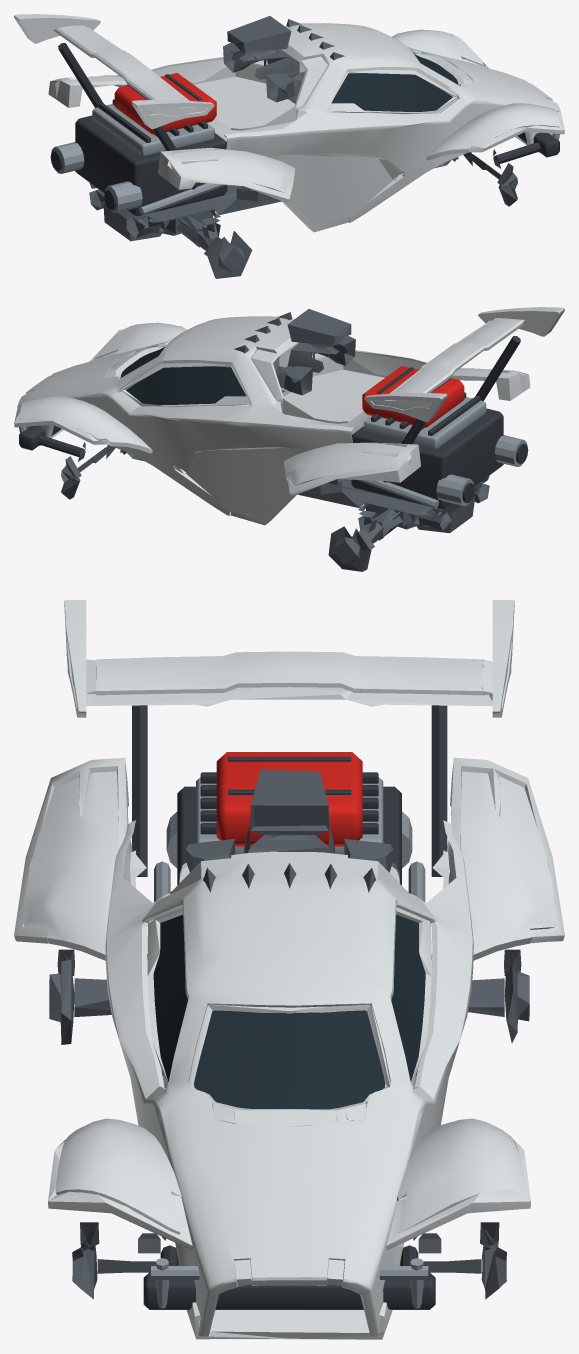
Rendered from octane.glb.
3 renders of one model, top to bottom at view 1: azimuth 30°, elevation 25°; view 2: azimuth 150°, elevation 25°; view 3: azimuth 270°, elevation 25°, orthographic. The views are drawn at different scales.
Parts seen in each view (by area): view 1: body-paint, body-details; view 2: body-paint, body-details; view 3: body-paint, body-details.
Part boxes in pixels (x1,y1,x2,y2): body-paint: (14,14,564,232); body-details: (50,16,560,278); body-paint: (14,307,564,525); body-details: (17,309,528,571); body-paint: (14,600,564,1339); body-details: (49,705,529,1309).
Bounding box in the file's own units: 1.31 × 0.5352 × 0.7356.
